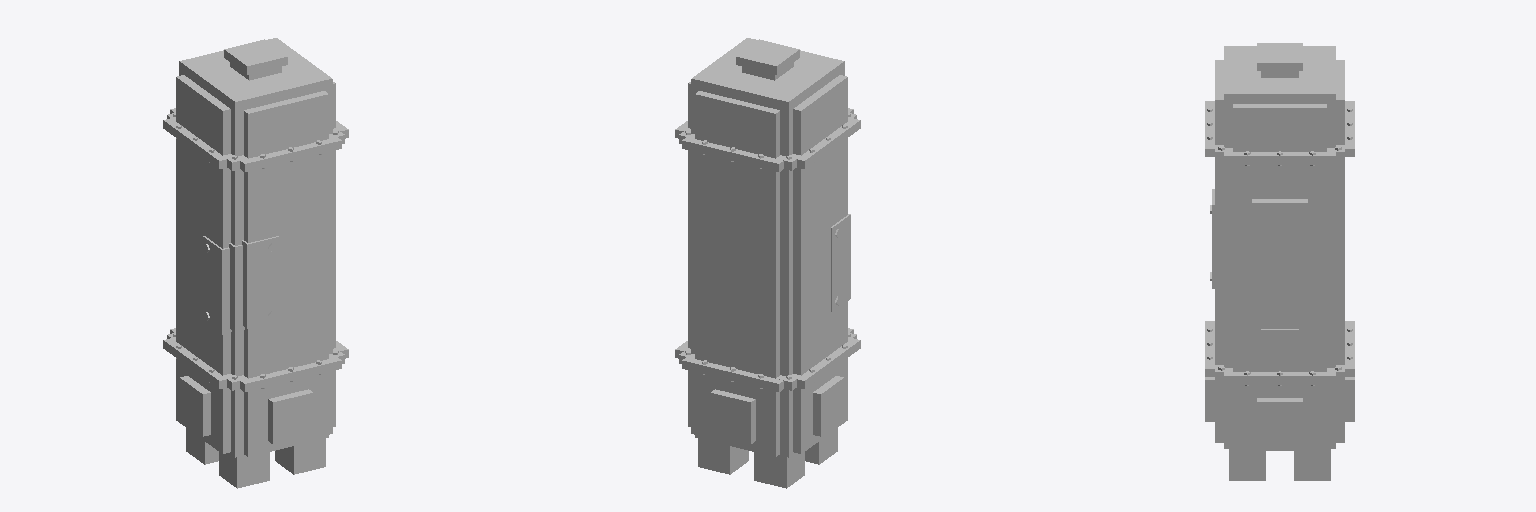
The model's file is fluidtank_small.obj.
The picture shows the model from 3 angles: view 1: azimuth 30°, elevation 25°; view 2: azimuth 150°, elevation 25°; view 3: azimuth 270°, elevation 25°; orthographic projection.
Visible parts, largest first — view 1: Tank2, Tank1, Tank, Tank4, Tank5, OutputOB, OutputNB, Base3, InputTop, Base2, Armature2, Armature5 (+4 smaller); view 2: Tank2, Tank1, Tank, OutputEB, Tank5, OutputNB, Base, InputTop, Base1, Armature2, Armature5, Armature1 (+2 smaller); view 3: Tank1, Tank, Tank2, Jauge5, OutputSB, Armature1, Armature4, InputTop, Jauge1, Jauge2, Base1, Base2 (+2 smaller).
Boxes of the visible parts, x1,y1,x2,y2 form: Tank2: [244, 91, 328, 456]; Tank1: [176, 75, 335, 453]; Tank: [179, 38, 332, 457]; Tank4: [242, 236, 279, 328]; Tank5: [203, 236, 231, 334]; OutputOB: [268, 389, 313, 444]; OutputNB: [180, 376, 210, 436]; Base3: [219, 452, 269, 488]; InputTop: [224, 39, 287, 74]; Base2: [275, 438, 325, 474]; Armature2: [170, 328, 341, 391]; Armature5: [170, 108, 341, 171]; Tank2: [695, 91, 779, 456]; Tank1: [688, 75, 847, 453]; Tank: [691, 38, 844, 457]; OutputEB: [710, 389, 755, 444]; Tank5: [831, 214, 850, 312]; OutputNB: [813, 376, 843, 436]; Base: [754, 452, 804, 488]; InputTop: [736, 39, 799, 74]; Base1: [698, 438, 748, 474]; Armature2: [682, 328, 853, 391]; Armature5: [682, 108, 853, 171]; Armature1: [675, 337, 860, 388]; Tank1: [1233, 104, 1326, 450]; Tank: [1224, 46, 1335, 448]; Tank2: [1215, 60, 1344, 442]; Jauge5: [1261, 211, 1298, 328]; OutputSB: [1257, 398, 1302, 443]; Armature1: [1224, 368, 1335, 384]; Armature4: [1224, 148, 1335, 164]; InputTop: [1257, 43, 1302, 70]; Jauge1: [1299, 199, 1307, 337]; Jauge2: [1252, 199, 1260, 337]; Base1: [1294, 449, 1330, 480]; Base2: [1229, 449, 1265, 480].
Size of the model in its own units: 1 by 3 by 1.